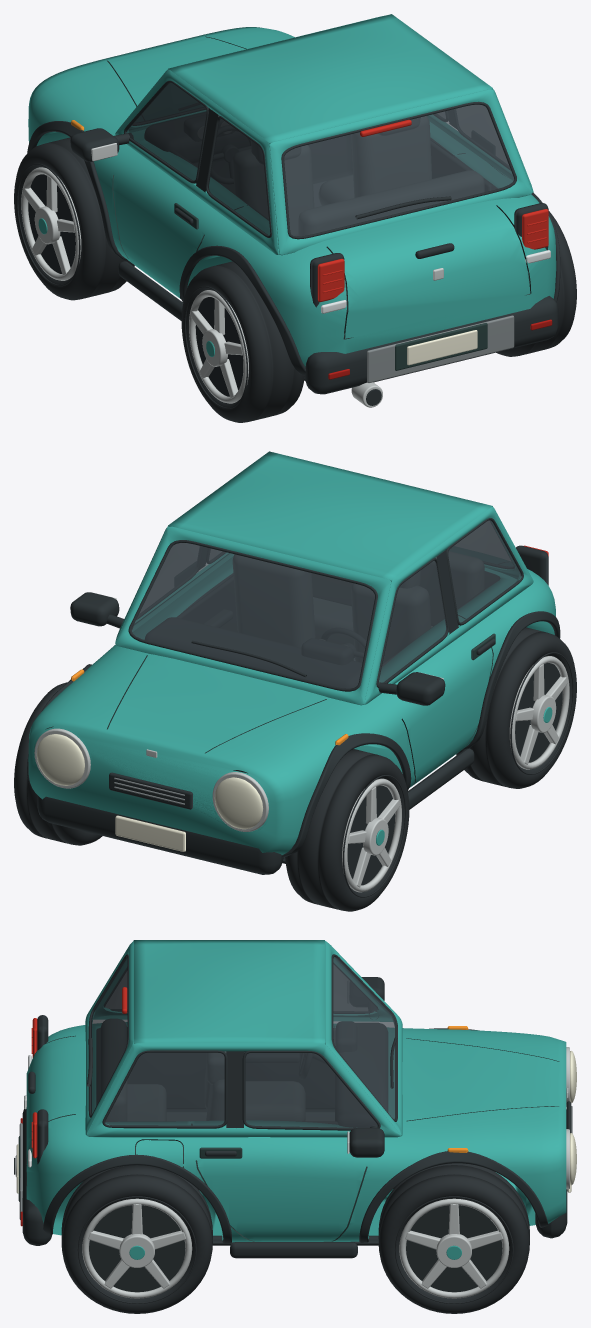
Rendered from compact_v1.fbx.
The picture shows the model from 3 angles, top to bottom: view 1: azimuth 30°, elevation 25°; view 2: azimuth 150°, elevation 25°; view 3: azimuth 270°, elevation 25°; orthographic projection. The views are drawn at different scales.
Visible parts, largest first — view 1: Body, Wheel_RL_Mesh, Wheel_FL_Mesh, Wheel_RR_Mesh; view 2: Body, Wheel_FL_Mesh, Wheel_RL_Mesh, Wheel_FR_Mesh; view 3: Body, Wheel_FR_Mesh, Wheel_RR_Mesh.
Boxes of the visible parts, x1,y1,x2,y2 form: Body: [27, 14, 560, 407]; Wheel_RL_Mesh: [181, 261, 304, 422]; Wheel_FL_Mesh: [14, 137, 134, 300]; Wheel_RR_Mesh: [496, 211, 576, 356]; Body: [27, 451, 560, 874]; Wheel_FL_Mesh: [285, 749, 409, 911]; Wheel_RL_Mesh: [456, 627, 576, 788]; Wheel_FR_Mesh: [14, 682, 102, 845]; Body: [14, 940, 576, 1258]; Wheel_FR_Mesh: [378, 1163, 529, 1313]; Wheel_RR_Mesh: [61, 1165, 212, 1313].
Bounding box in the file's own units: 222 × 161 × 316.
